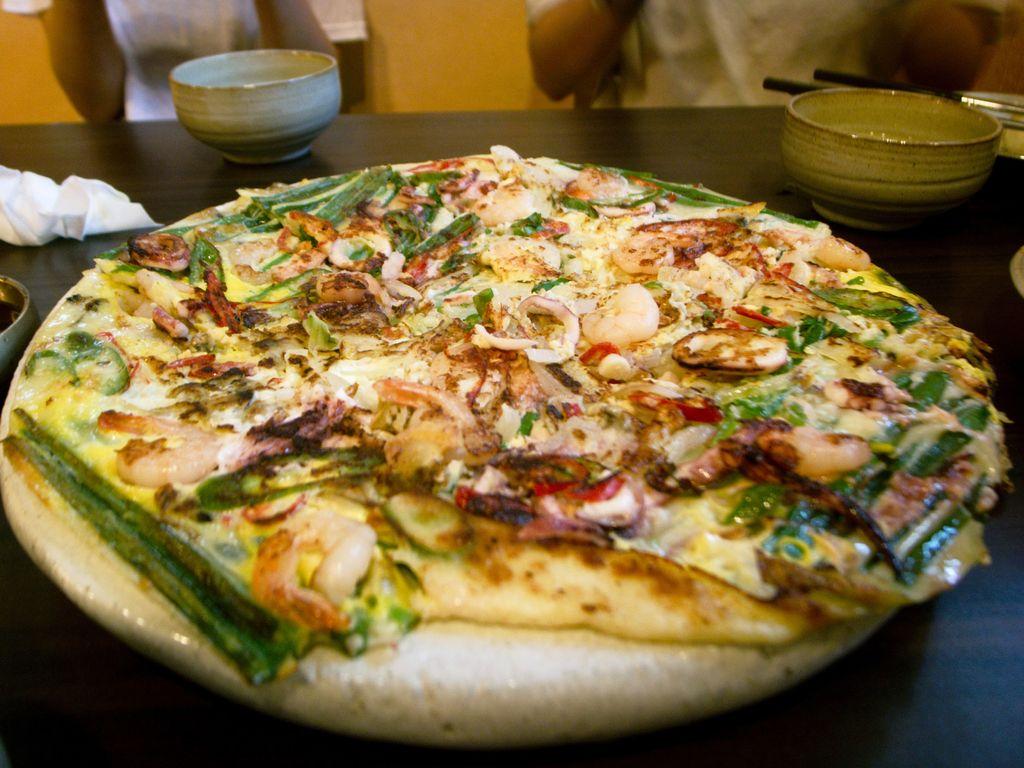Pizza: (0, 144, 1012, 734)
